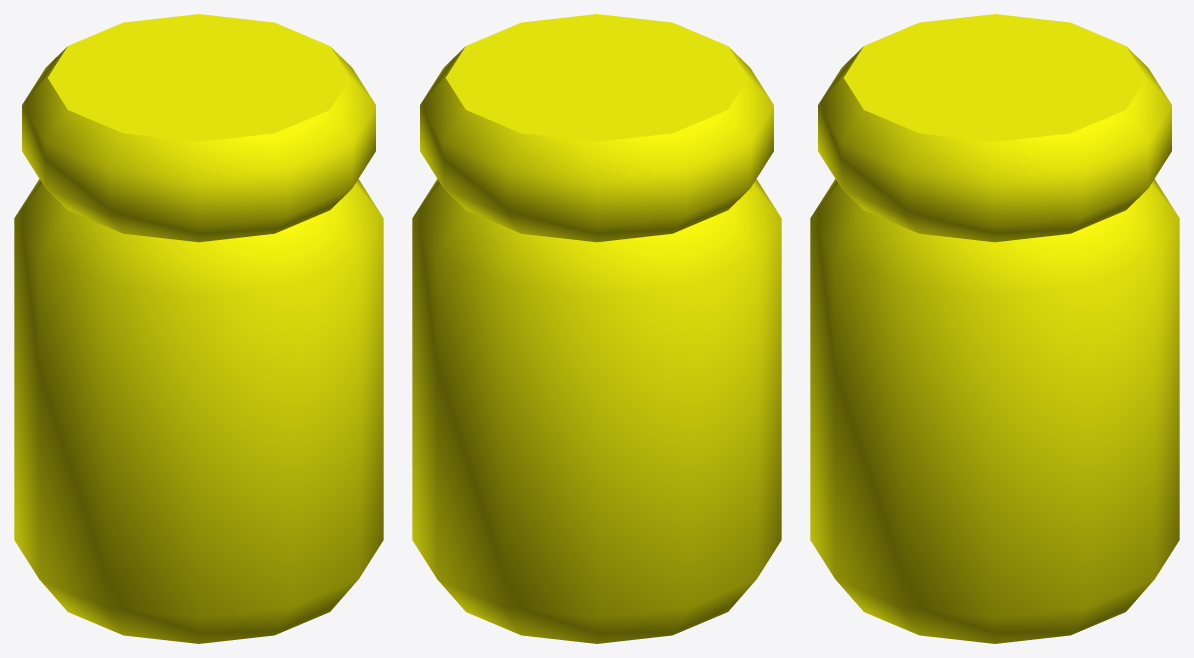
Rendered from kaykit-jar-c-large.glb.
3 renders of one model, left to right at view 1: azimuth 30°, elevation 25°; view 2: azimuth 150°, elevation 25°; view 3: azimuth 270°, elevation 25°, orthographic.
Visible parts, largest first — view 1: jar_C_large; view 2: jar_C_large; view 3: jar_C_large.
Part boxes in pixels (x1,y1,x2,y2): jar_C_large: (14,14,383,643); jar_C_large: (412,14,781,643); jar_C_large: (810,14,1179,643).
Bounding box in the file's own units: 0.5 × 0.75 × 0.5.
